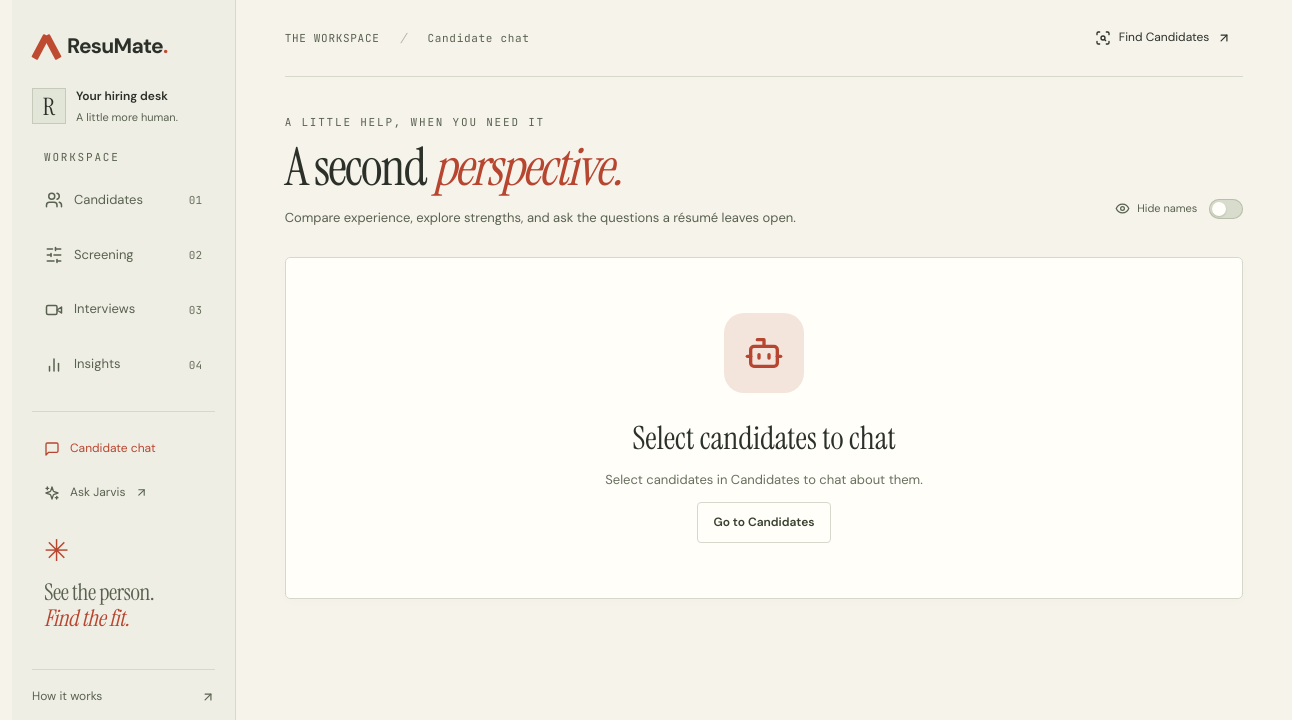
Test: the candidate chat › with nobody selected, leads to Candidates
expect the text "Select candidates in Candidates to chat about them." is shown: met, box x1=605 y1=469 x2=923 y2=490
Click the button "Go to Candidates": (764, 522) x1=697 y1=502 x2=831 y2=543
(page scrolled)
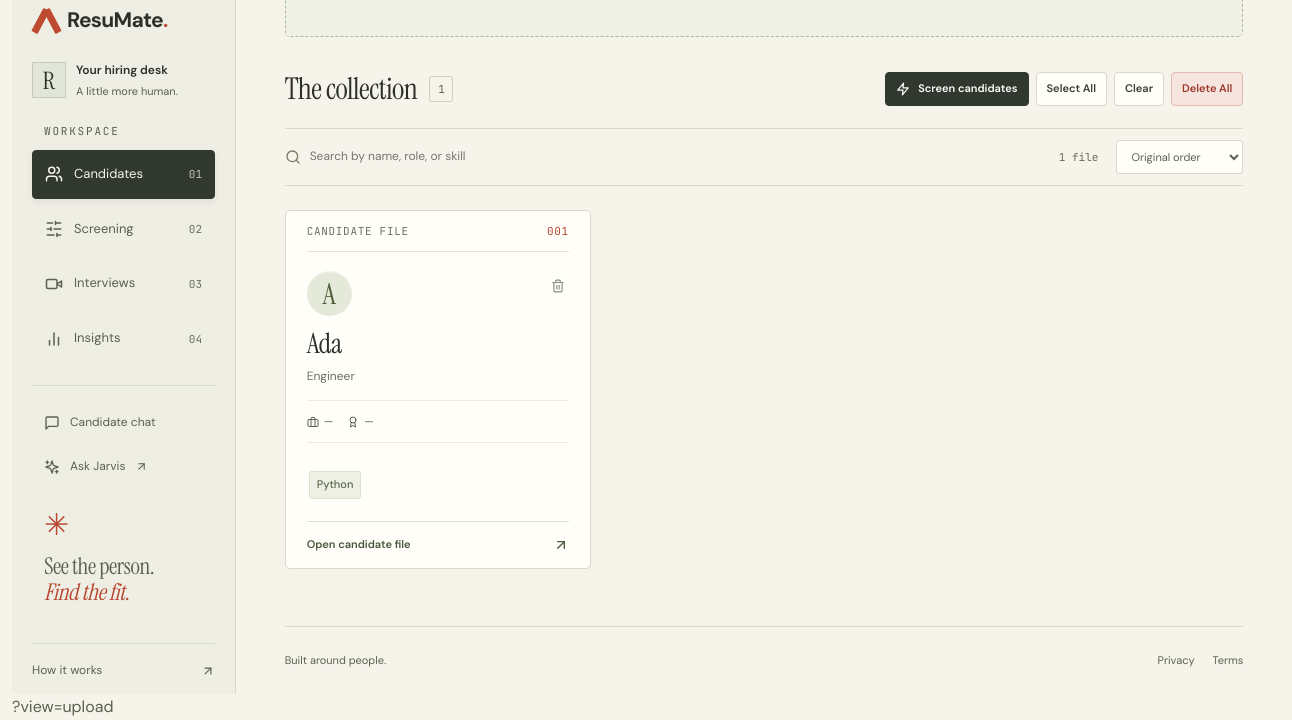
expect the text with test id "address" reads "?view=upload": met, box x1=12 y1=696 x2=113 y2=717
